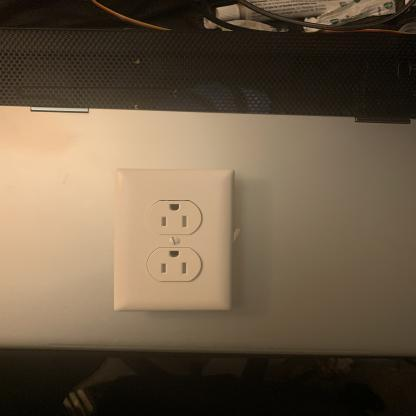OUTLET: (114, 166, 236, 313)
